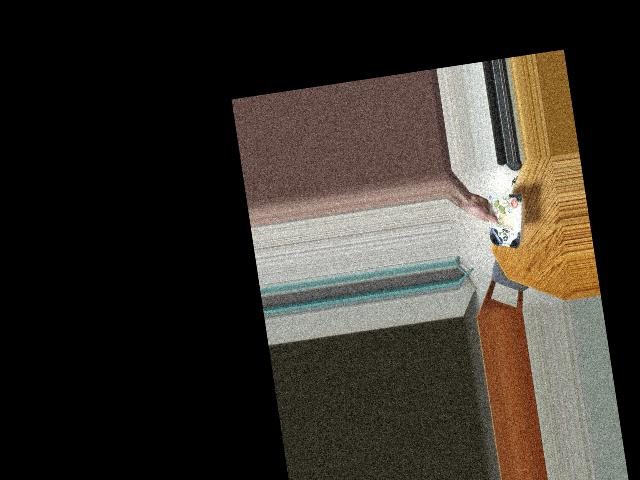cheese: (481, 188, 523, 253)
